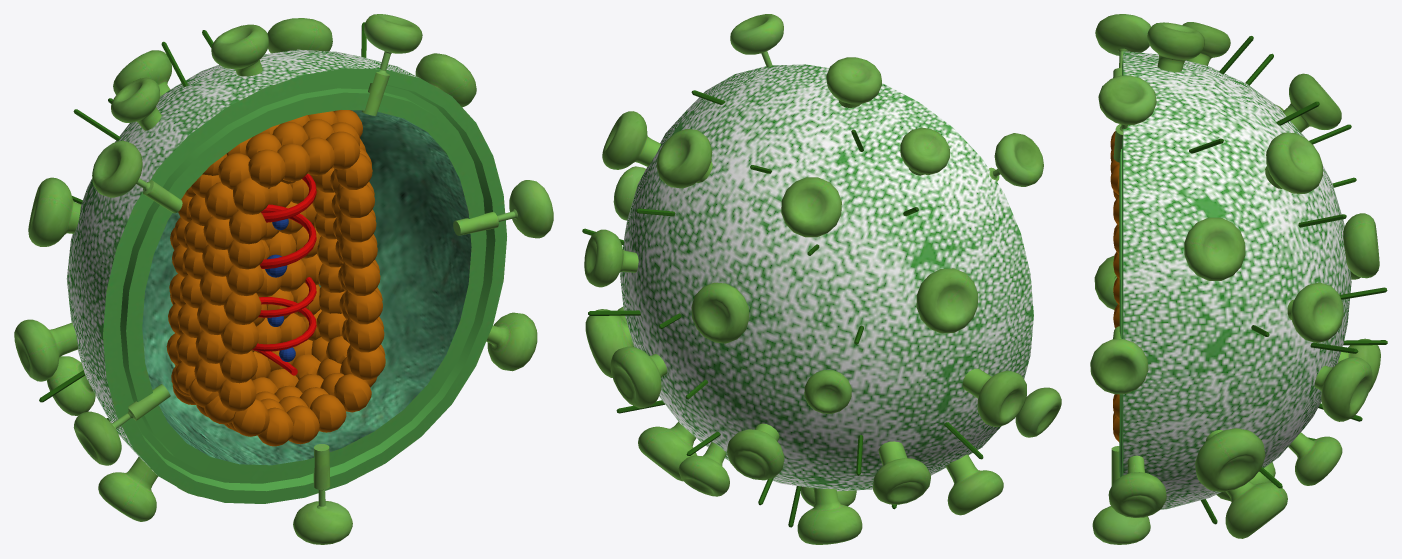
3 views of the same model, side by side, from view 1: azimuth 30°, elevation 25°; view 2: azimuth 150°, elevation 25°; view 3: azimuth 270°, elevation 25° (orthographic). The views are drawn at different scales.
Visible parts, largest first — view 1: poumianHIV:polySurface55; view 2: poumianHIV:polySurface55; view 3: poumianHIV:polySurface55.
Boxes of the visible parts, x1,y1,x2,y2 form: poumianHIV:polySurface55: [14, 14, 553, 544]; poumianHIV:polySurface55: [582, 14, 1061, 544]; poumianHIV:polySurface55: [1090, 14, 1387, 544].
Size of the model in its own units: 6.31 by 6.39 by 3.52.
